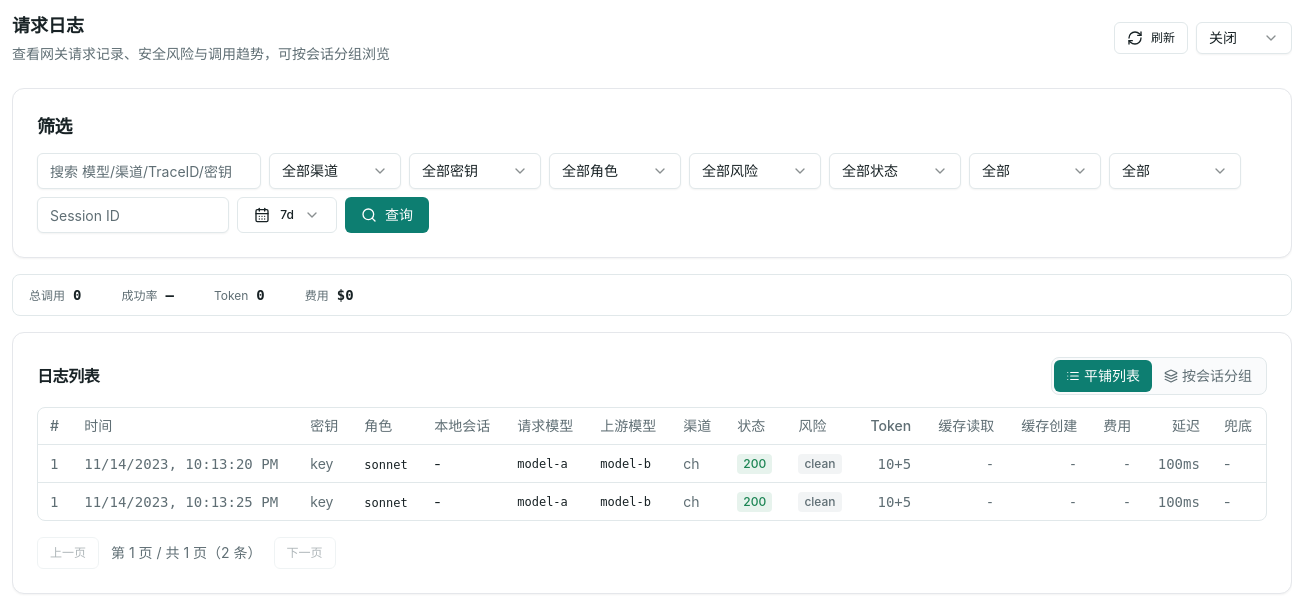
Test case: LogsPage › 展开会话后显示该 trace 的全部日志
The width and height of the screenshot is (1304, 607).
Click the button "按会话分组" at (1208, 376), box [1152, 360, 1264, 392]
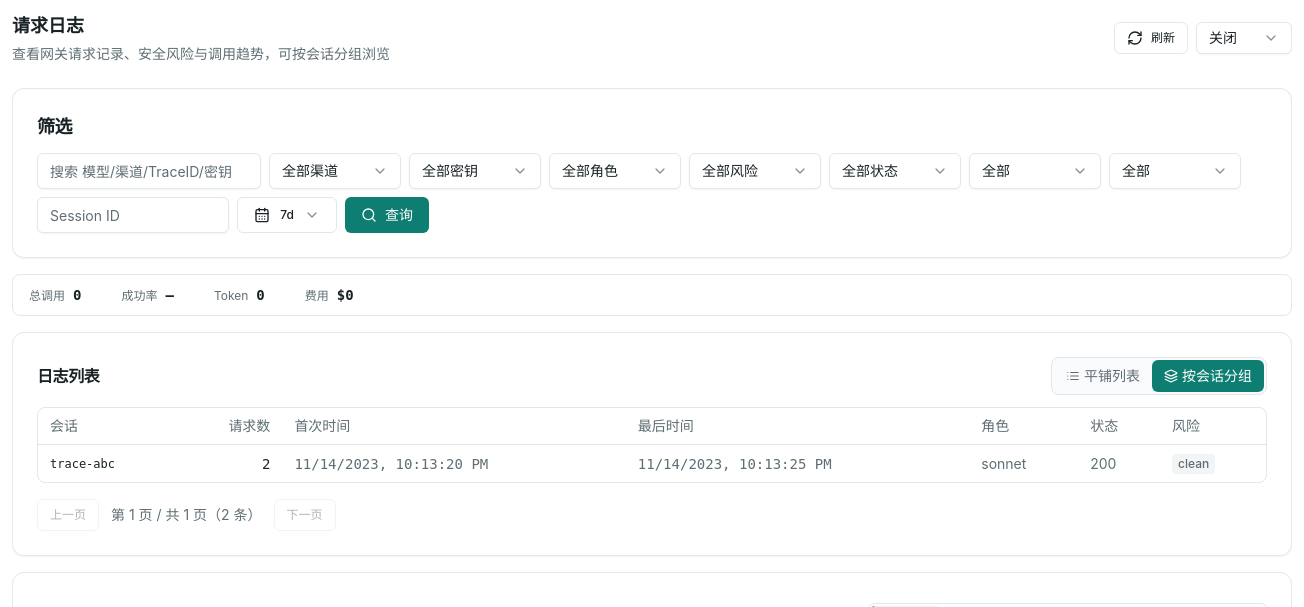
Click the text "trace-abc" at (82, 464), box [50, 456, 115, 472]
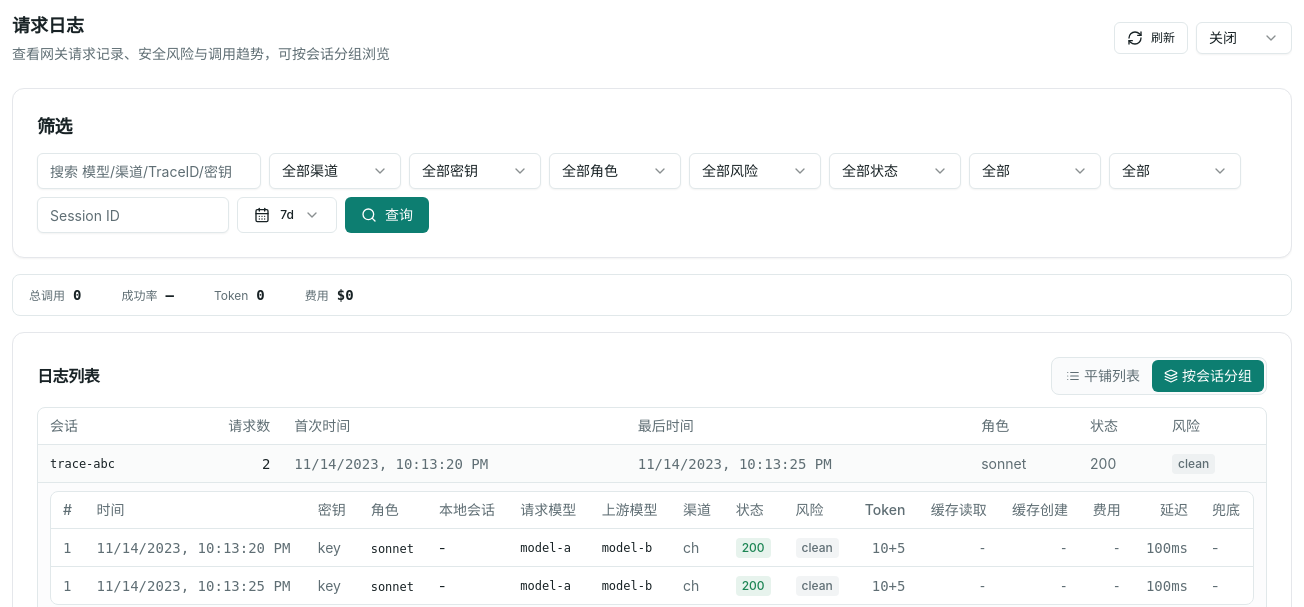
Now the text "model-a" is shown 2 times, box [508, 528, 590, 566]; [508, 566, 590, 604]
